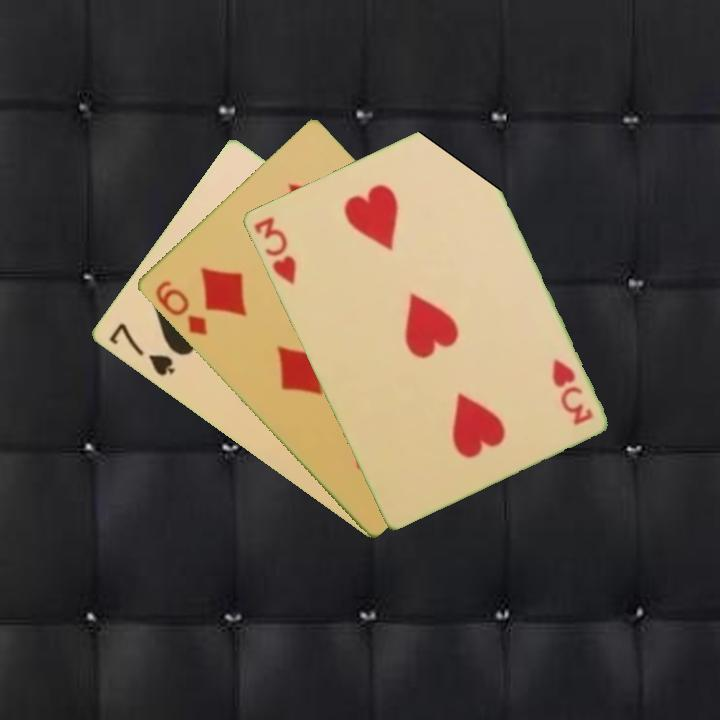3h: (250, 213, 299, 288), (547, 355, 596, 428)
6d: (151, 277, 210, 339)
7s: (105, 319, 177, 379)
